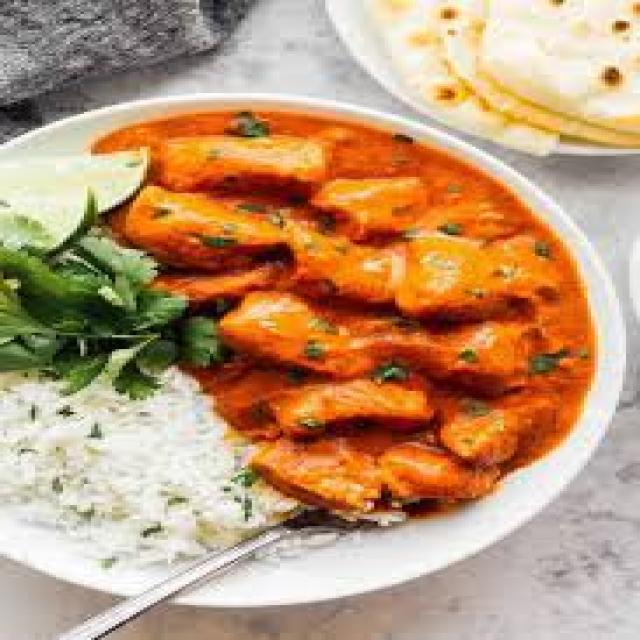Butter Chicken: (88, 110, 588, 532)
